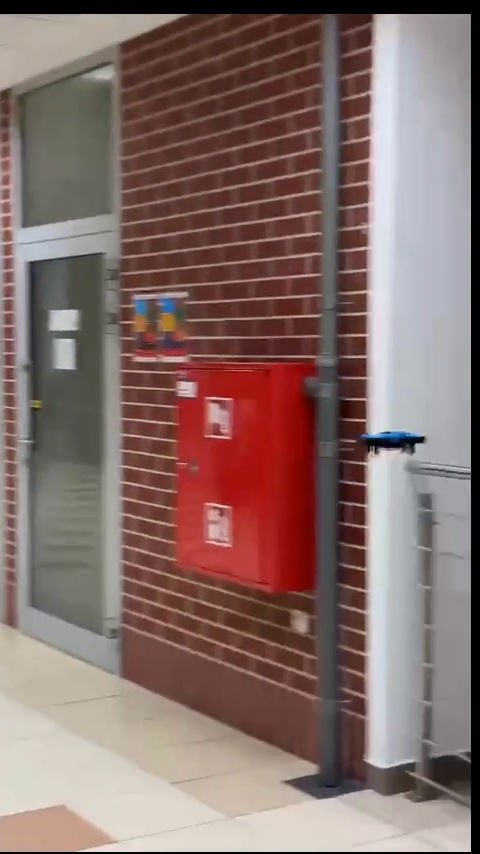drone: (355, 428, 430, 458)
